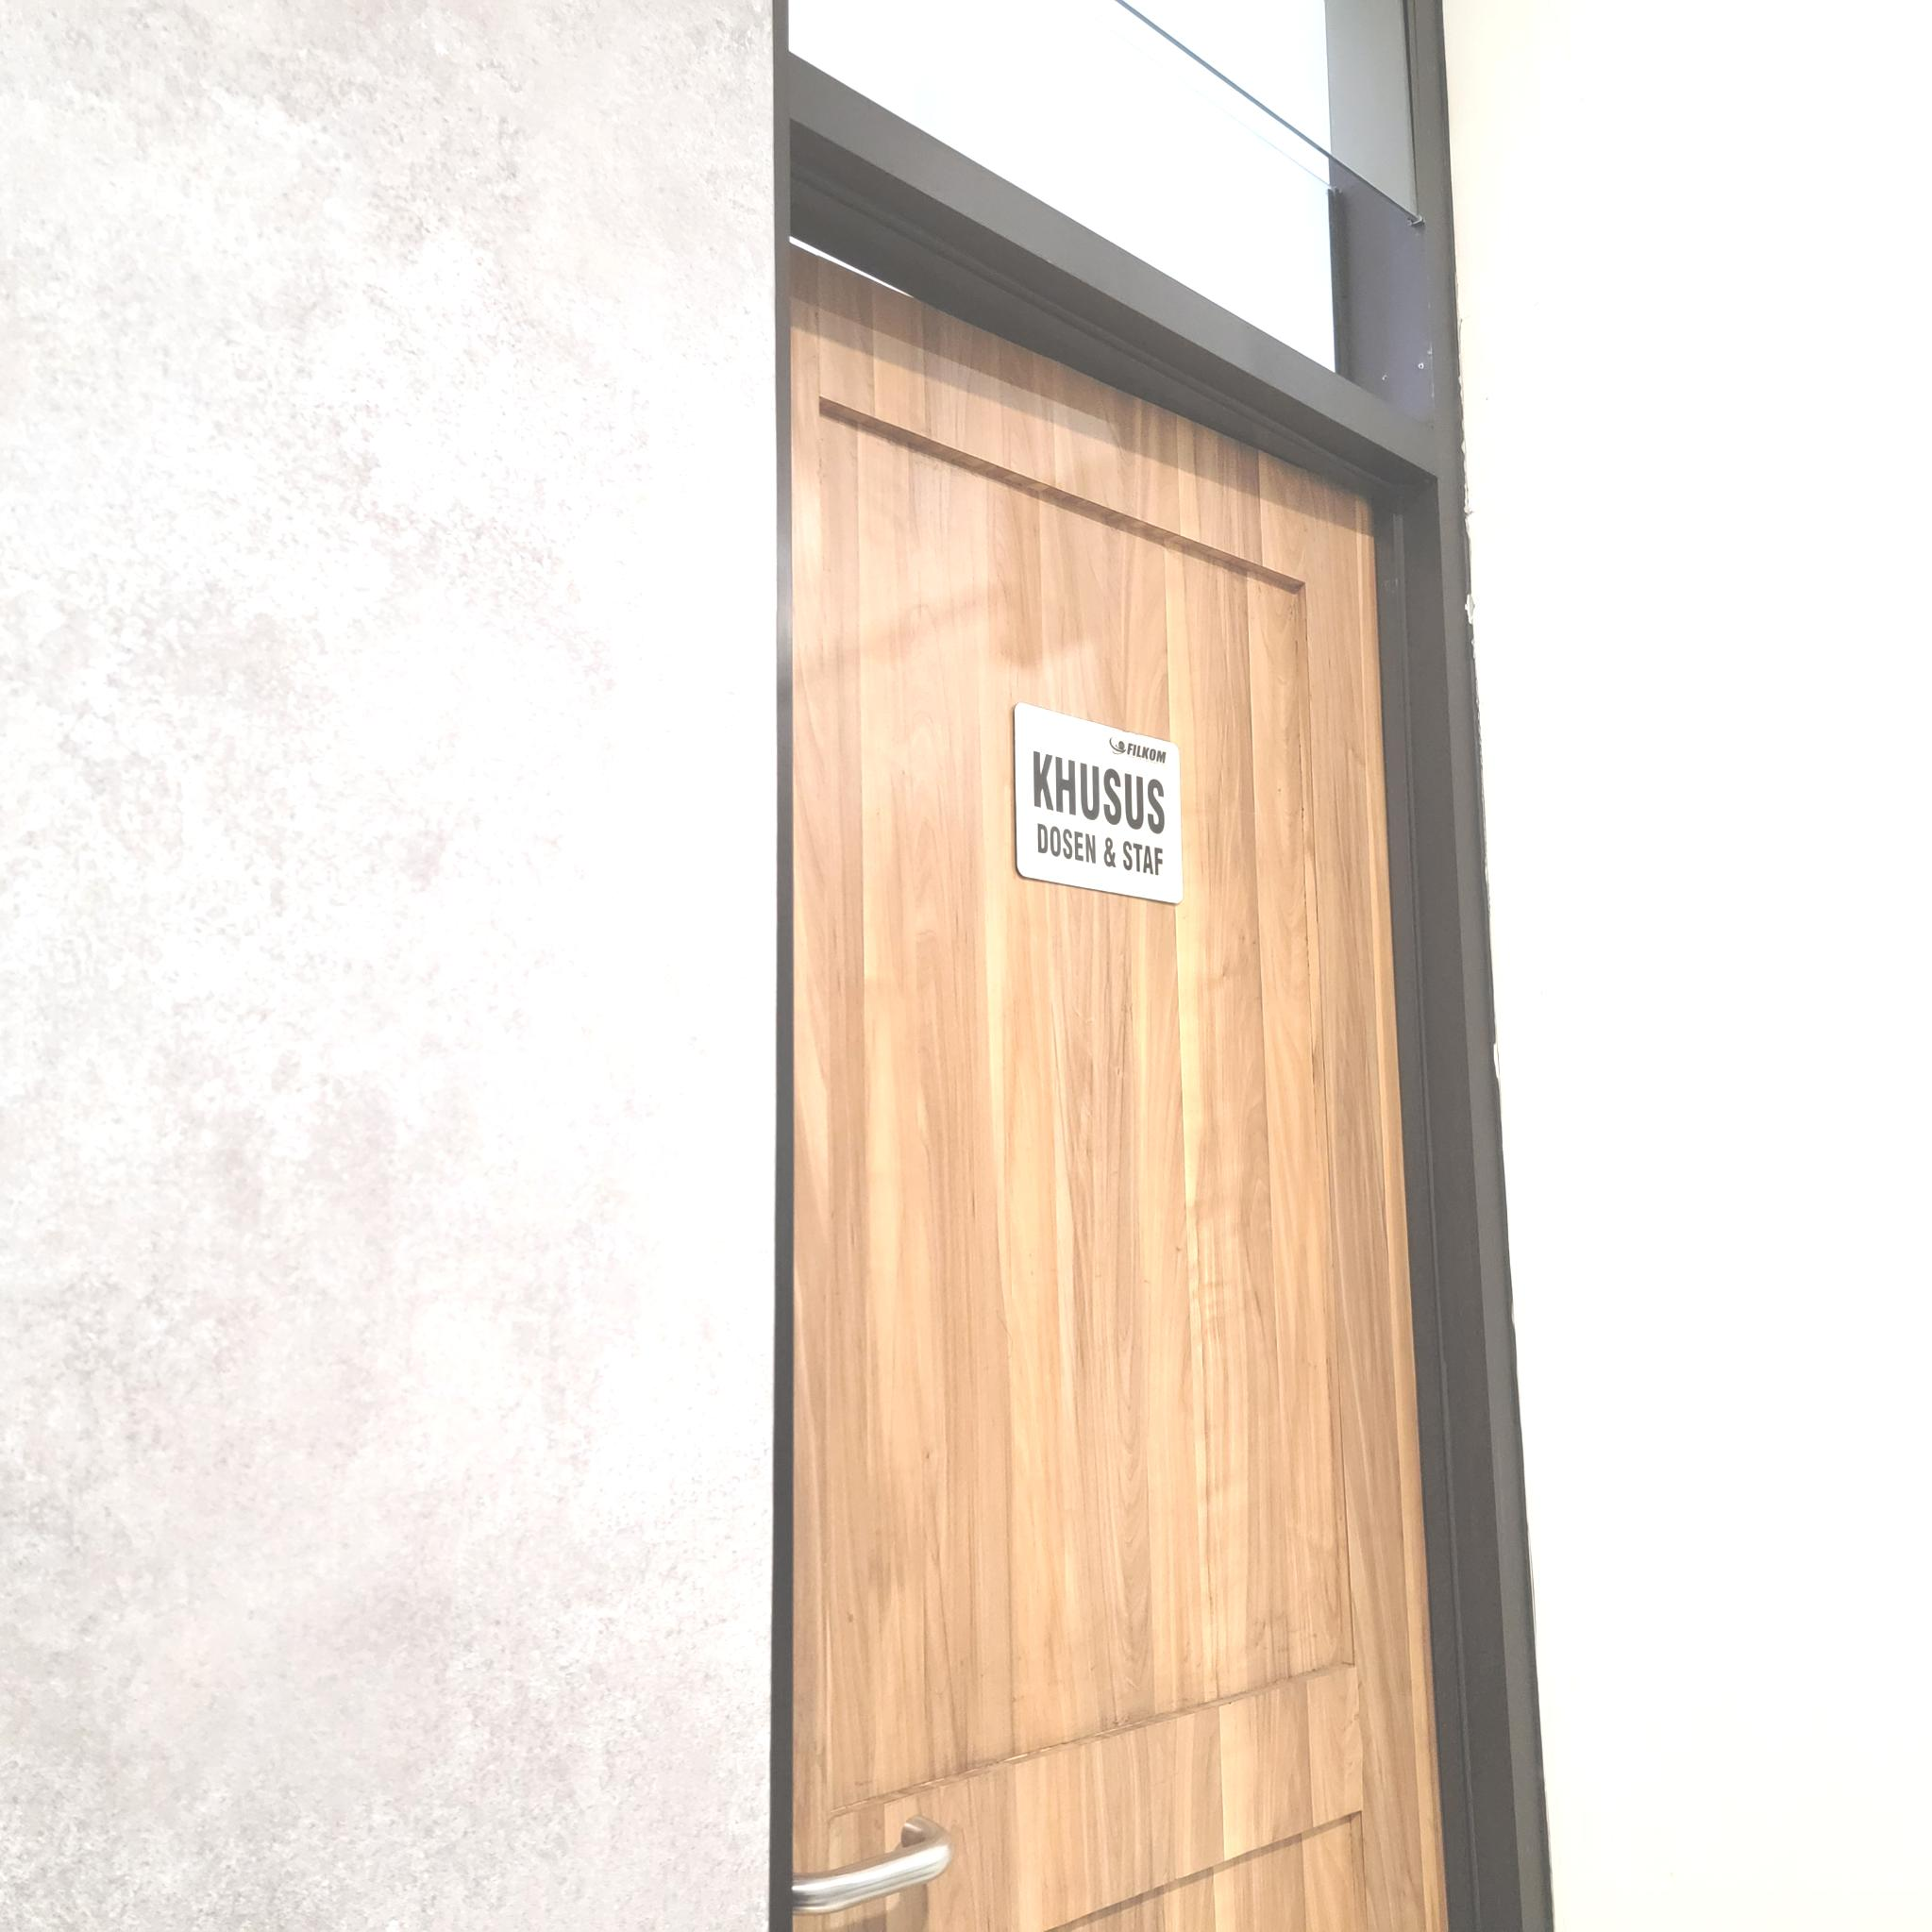plate: (1012, 699, 1184, 906)
